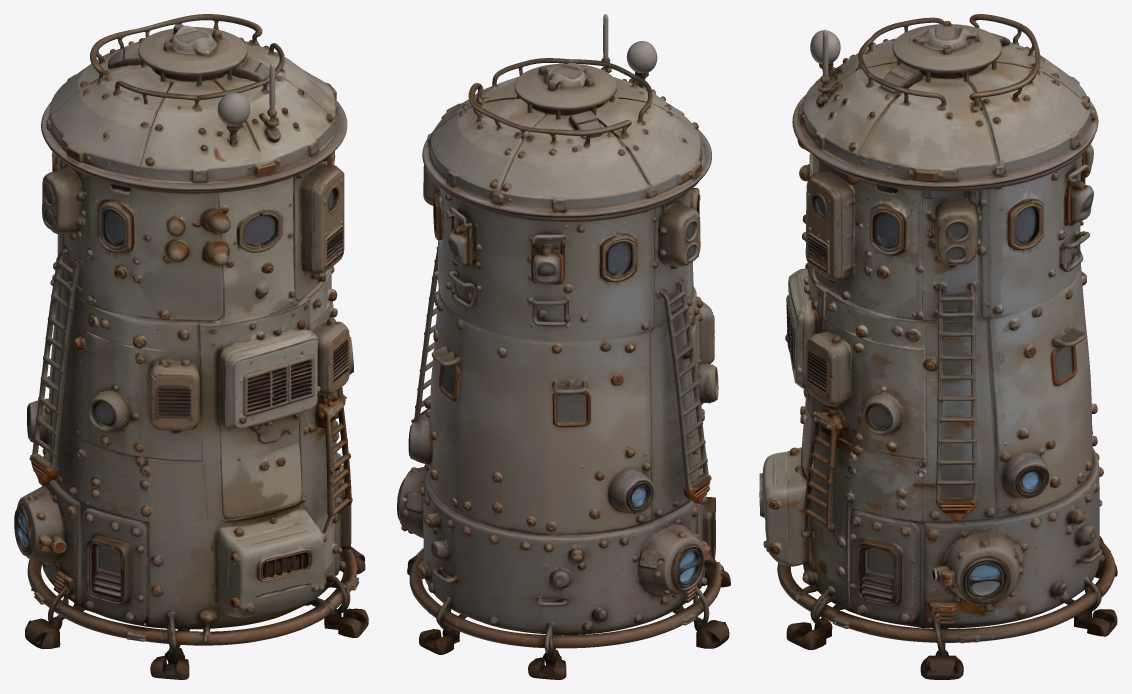
Rendered from mars_habitat_tall.glb.
3 renders of one model, left to right at view 1: azimuth 30°, elevation 25°; view 2: azimuth 150°, elevation 25°; view 3: azimuth 270°, elevation 25°, orthographic. The views are drawn at different scales.
Parts seen in each view (by area): view 1: tripo_node_a42a445a-a7bd-495c-a2e4-c56334f5bf5c; view 2: tripo_node_a42a445a-a7bd-495c-a2e4-c56334f5bf5c; view 3: tripo_node_a42a445a-a7bd-495c-a2e4-c56334f5bf5c.
Part boxes in pixels (x1,y1,x2,y2): tripo_node_a42a445a-a7bd-495c-a2e4-c56334f5bf5c: (14,14,368,679); tripo_node_a42a445a-a7bd-495c-a2e4-c56334f5bf5c: (397,14,730,679); tripo_node_a42a445a-a7bd-495c-a2e4-c56334f5bf5c: (759,14,1117,679).
Size of the model in its own units: 0.5891 by 0.9773 by 0.547.
1 material, 1 textured.
